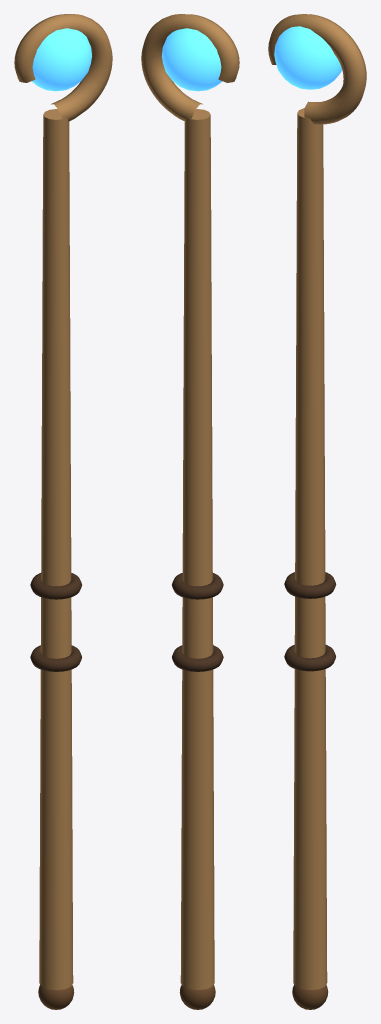
Rendered from staff_apprentice.glb.
3 views of the same model, side by side, from view 1: azimuth 30°, elevation 25°; view 2: azimuth 150°, elevation 25°; view 3: azimuth 330°, elevation 25° (orthographic).
Visible parts, largest first — view 1: shaft, glow_orb, band, pommel; view 2: shaft, glow_orb, band, pommel; view 3: shaft, glow_orb, band, pommel.
Boxes of the visible parts, <box> form: shaft: <box>14,14,112,990</box>; glow_orb: <box>31,28,91,91</box>; band: <box>30,573,81,671</box>; pommel: <box>38,984,74,1009</box>; shaft: <box>141,14,239,990</box>; glow_orb: <box>162,28,222,91</box>; band: <box>172,573,223,671</box>; pommel: <box>179,984,215,1009</box>; shaft: <box>268,14,366,990</box>; glow_orb: <box>274,26,341,89</box>; band: <box>284,572,336,671</box>; pommel: <box>292,984,328,1009</box>.
Size of the model in its own units: 0.1109 by 1.1 by 0.072.
